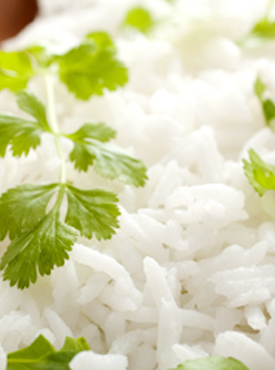plain rice: (95, 186, 261, 357)
